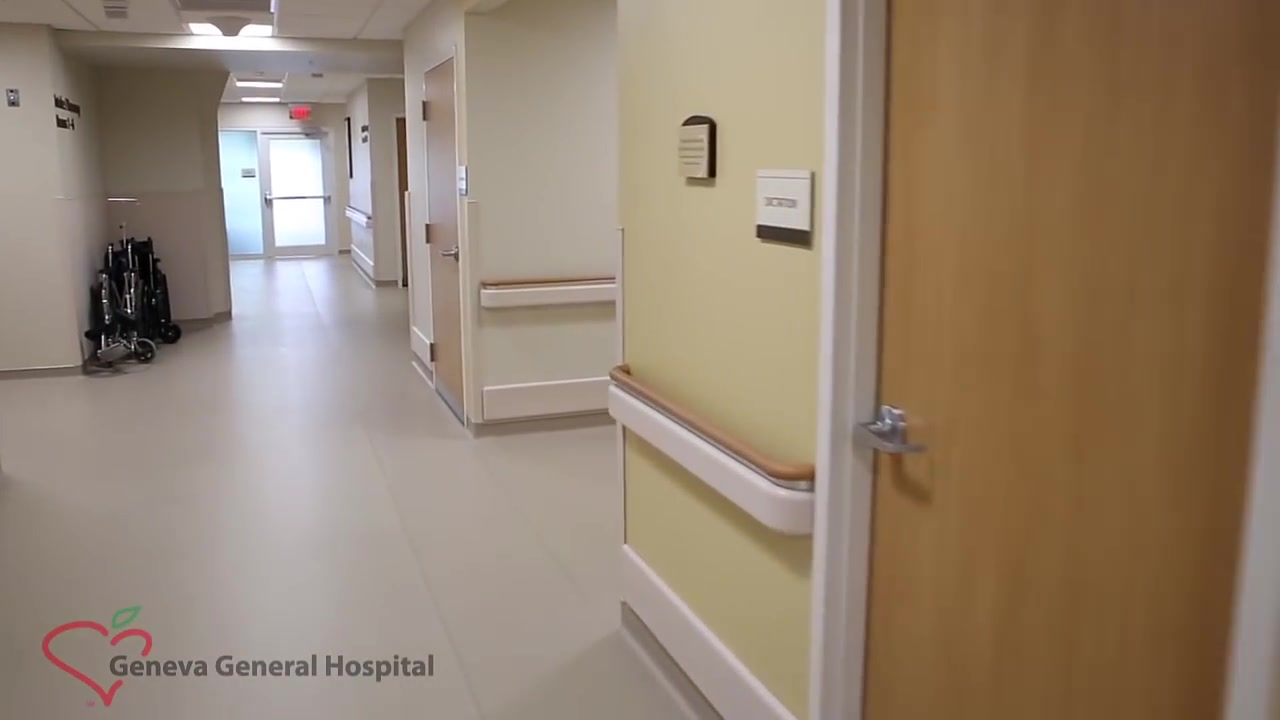door_handle: (855, 415, 926, 459), (270, 194, 330, 204), (438, 247, 457, 260)
hallway_assist_bar: (606, 362, 819, 537), (477, 274, 621, 310), (342, 203, 374, 226)
wheel_chair: (84, 216, 185, 371)
